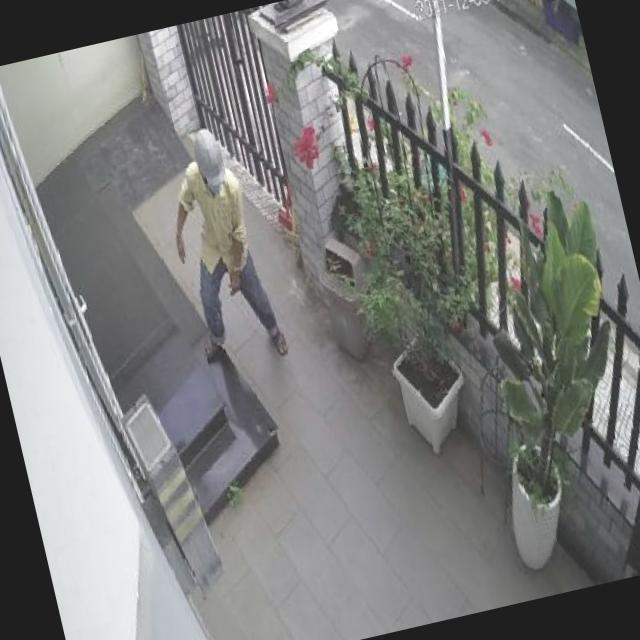Person: (150, 120, 288, 376)
